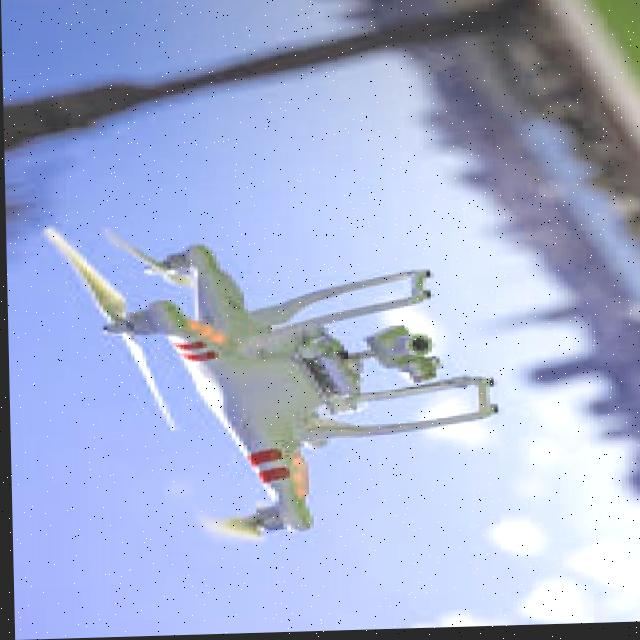drone: (58, 222, 502, 549)
